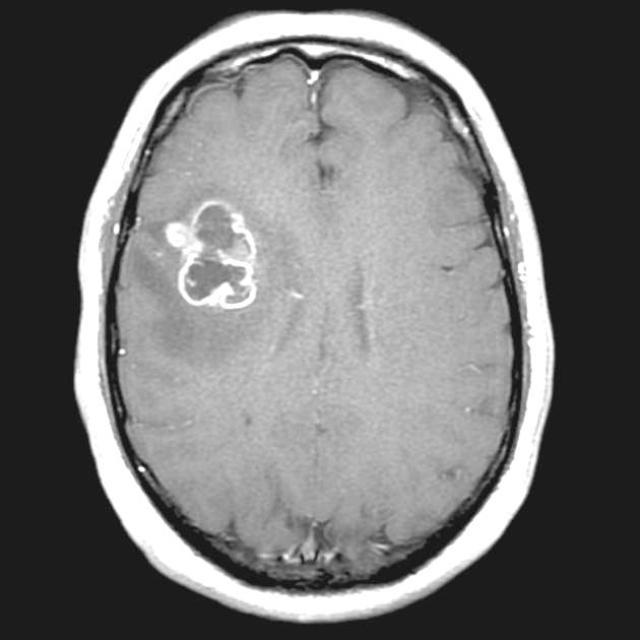brain tumor: (166, 200, 255, 309)
